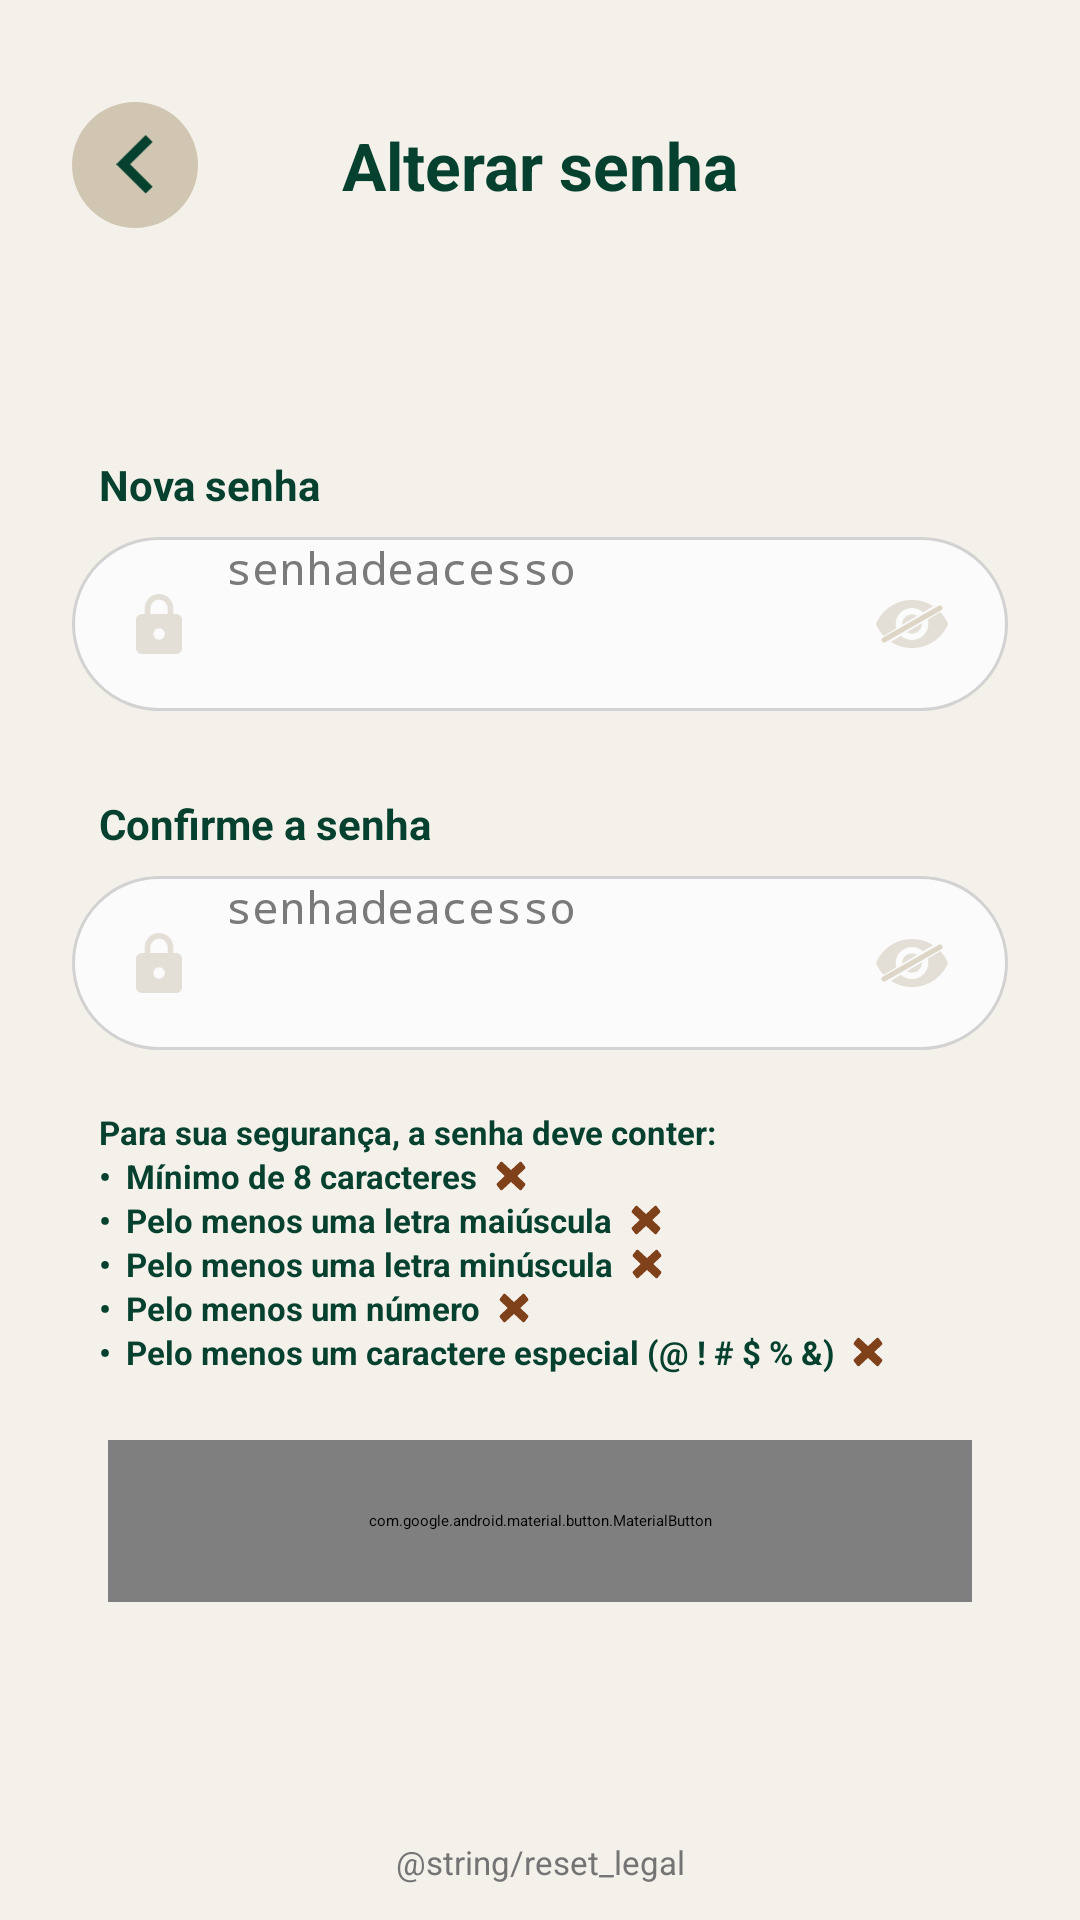

Icons on this 1080x1920 Android screen, each with its box as (x1, y1, x2, y2):
lock: (136, 594, 182, 654), (136, 933, 182, 993)
Mostrar senha: (876, 600, 948, 648), (876, 939, 948, 987)
negative: (496, 1161, 526, 1191), (631, 1205, 661, 1235), (632, 1249, 662, 1279), (499, 1293, 529, 1323), (853, 1337, 883, 1367)
Voltar: (72, 102, 198, 228)
